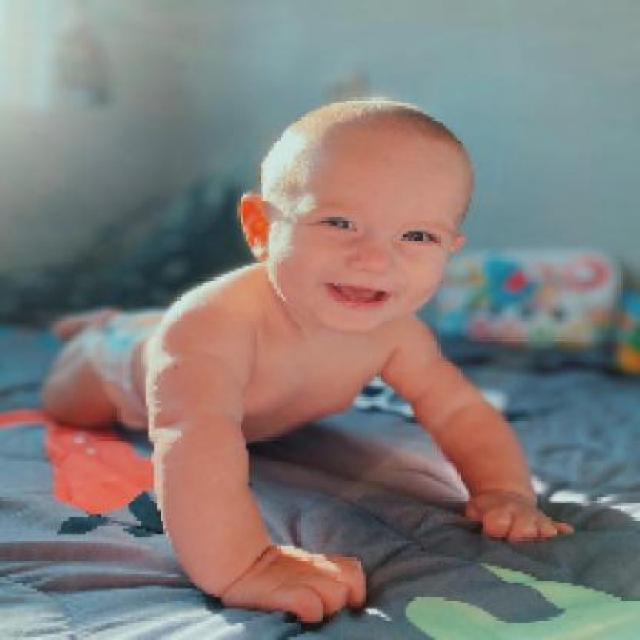child: (41, 98, 573, 628)
